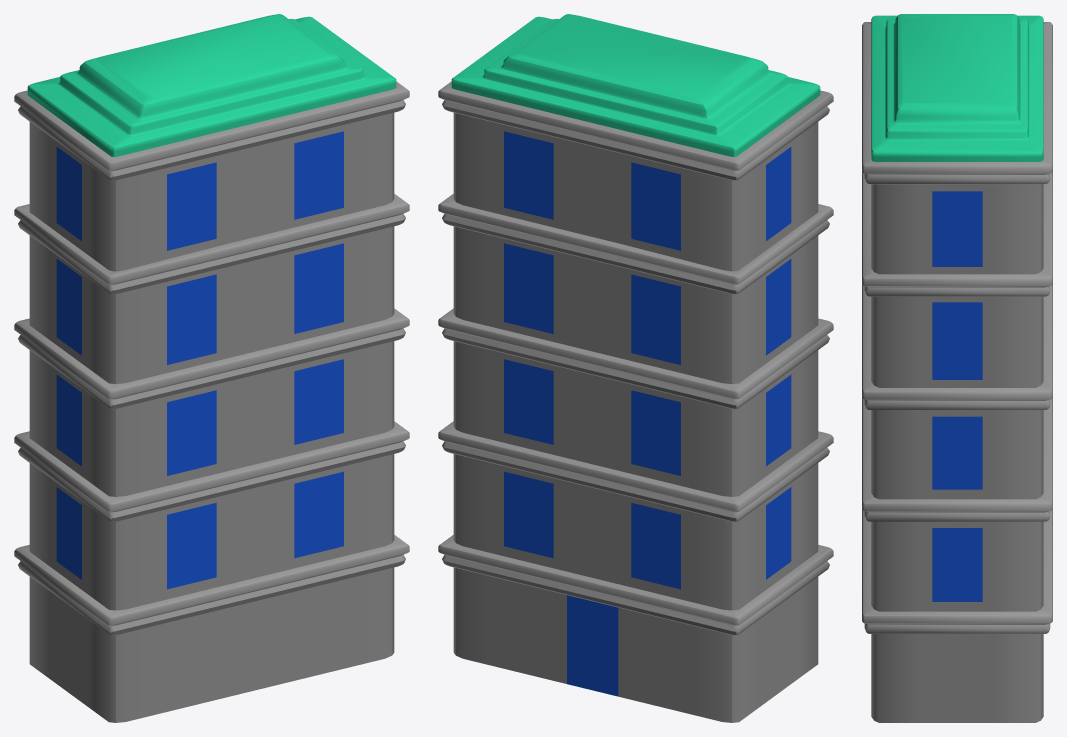
Rendered from apartmentV2_blockout.fbx.
3 renders of one model, left to right at view 1: azimuth 30°, elevation 25°; view 2: azimuth 150°, elevation 25°; view 3: azimuth 270°, elevation 25°, orthographic.
Visible parts, largest first — view 1: Appartment_V2_MASTER; view 2: Appartment_V2_MASTER; view 3: Appartment_V2_MASTER.
Part boxes in pixels (x1,y1,x2,y2): Appartment_V2_MASTER: [14, 14, 409, 722]; Appartment_V2_MASTER: [438, 14, 833, 722]; Appartment_V2_MASTER: [862, 14, 1052, 722].
Size of the model in its own units: 690 by 1315 by 382.
